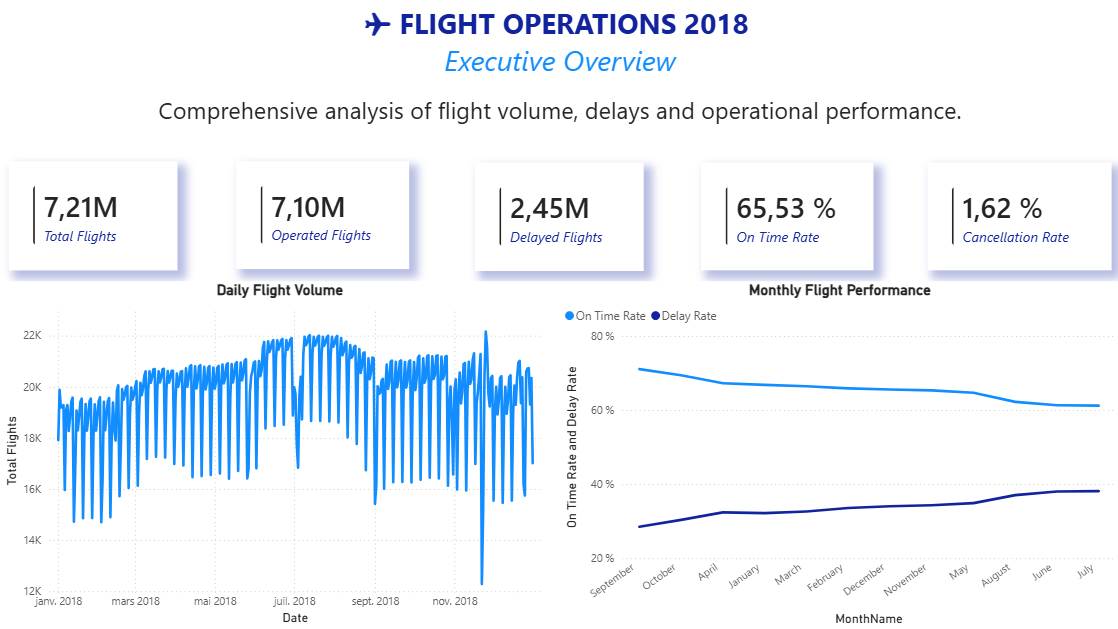

The dashboard page shown, as its layout file describes it:
{"tool":"powerbi","page":{"name":"overview","canvas":[1280,720],"ordinal":0},"visuals":[{"type":"cardVisual","fields":{"Data":["measure.Total Flights"]},"box":[10.3,183.6,192.6,124.6],"z":0},{"type":"cardVisual","fields":{"Data":["measure.Operated Flights"]},"box":[269.7,184.9,197.8,123.3],"z":1000},{"type":"cardVisual","fields":{"Data":["measure.On Time Rate"]},"box":[801.1,185.3,196.5,123.2],"z":2000},{"type":"cardVisual","fields":{"Data":["measure.Delayed Flights"]},"box":[542.4,185.3,192.8,124.4],"z":3000},{"type":"cardVisual","fields":{"Data":["measure.Cancellation Rate"]},"box":[1059.9,185.3,210.2,123.2],"z":4000},{"type":"lineChart","title":"Daily Flight Volume","fields":{"Category":["DimDate.Date"],"Y":["measure.Total Flights"]},"box":[0,321.7,640,398.3],"z":5000},{"type":"lineChart","title":"Monthly Flight Performance","fields":{"Category":["DimDate.MonthName"],"Y":["measure.On Time Rate","measure.Delay Rate"]},"box":[640,321.7,640,398.3],"z":6000},{"type":"textbox","box":[0,0,1280,168.3],"z":7000}]}

Visuals, with their boxes in screenshot pixels (x1, y1, x2, y2), scaled from the page's 1280x720 canvas onto the 1118x629 screenshot:
cardVisual - measure.Total Flights: <bbox>9, 160, 177, 269</bbox>
cardVisual - measure.Operated Flights: <bbox>236, 162, 408, 269</bbox>
cardVisual - measure.On Time Rate: <bbox>700, 162, 871, 270</bbox>
cardVisual - measure.Delayed Flights: <bbox>474, 162, 642, 271</bbox>
cardVisual - measure.Cancellation Rate: <bbox>926, 162, 1109, 270</bbox>
"Daily Flight Volume" lineChart: <bbox>0, 281, 559, 628</bbox>
"Monthly Flight Performance" lineChart: <bbox>559, 281, 1117, 628</bbox>
textbox: <bbox>0, 0, 1117, 147</bbox>
